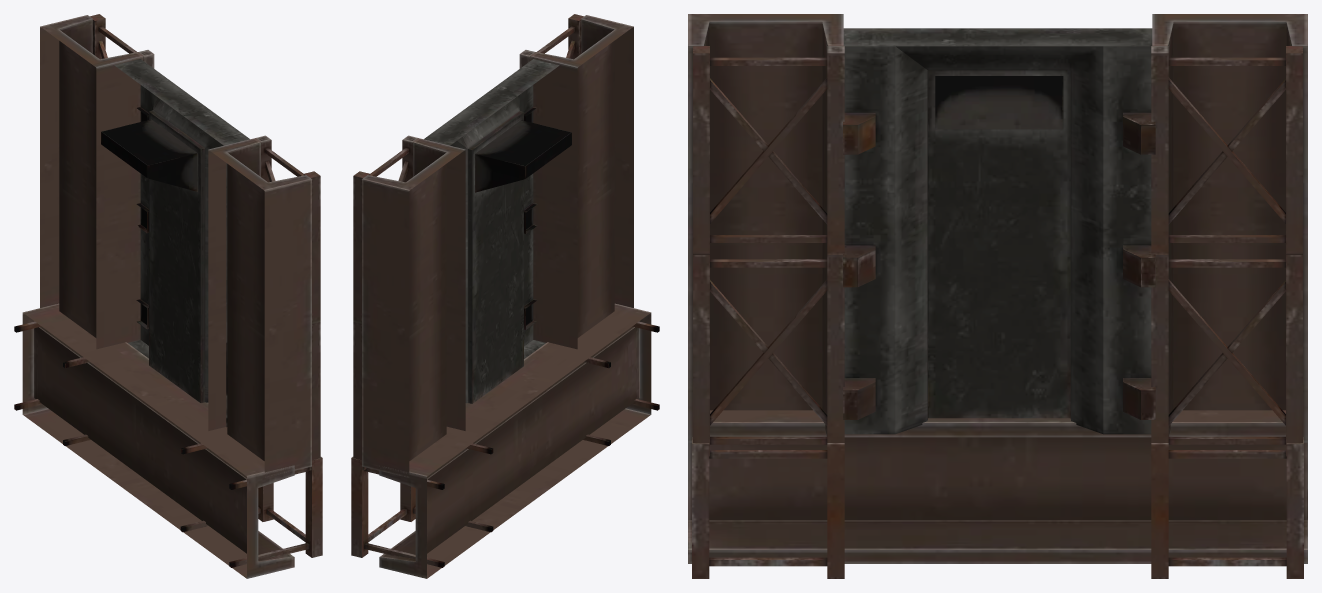
File: caged-rack--2.gltf
3 views of the same model, side by side, from view 1: azimuth 30°, elevation 25°; view 2: azimuth 150°, elevation 25°; view 3: azimuth 270°, elevation 25° (orthographic). The views are drawn at different scales.
Visible parts, largest first — view 1: lp.005; view 2: lp.005; view 3: lp.005.
Part boxes in pixels (x1=…): lp.005: x1=14, y1=14, x2=322, y2=578; lp.005: x1=351, y1=14, x2=659, y2=578; lp.005: x1=688, y1=14, x2=1307, y2=578.
Size of the model in its own units: 1 by 4 by 4.24.
Materials: 2 (2 with a texture image).
